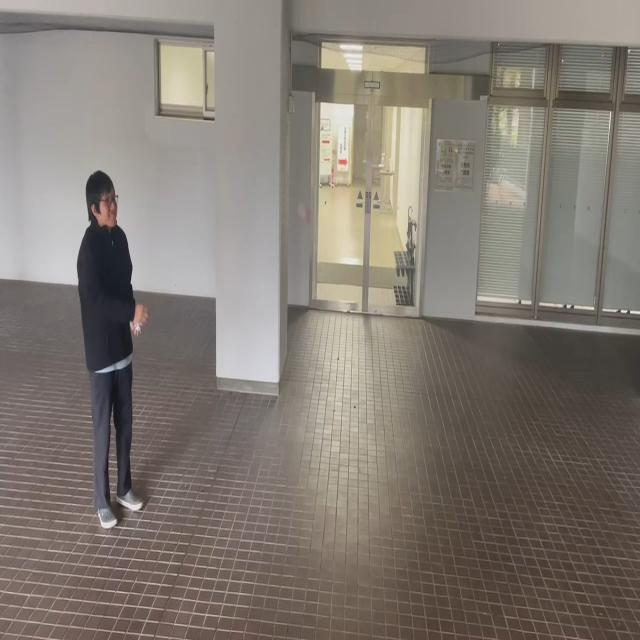paper: (294, 198, 308, 225), (136, 323, 140, 331)
